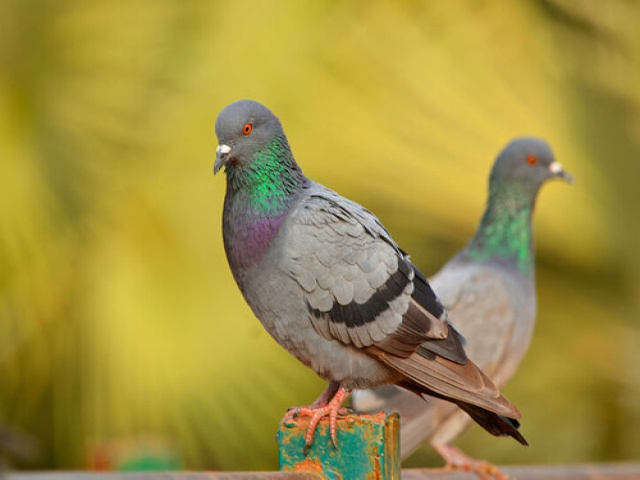Pigeon: (207, 94, 539, 460), (426, 129, 573, 348)
